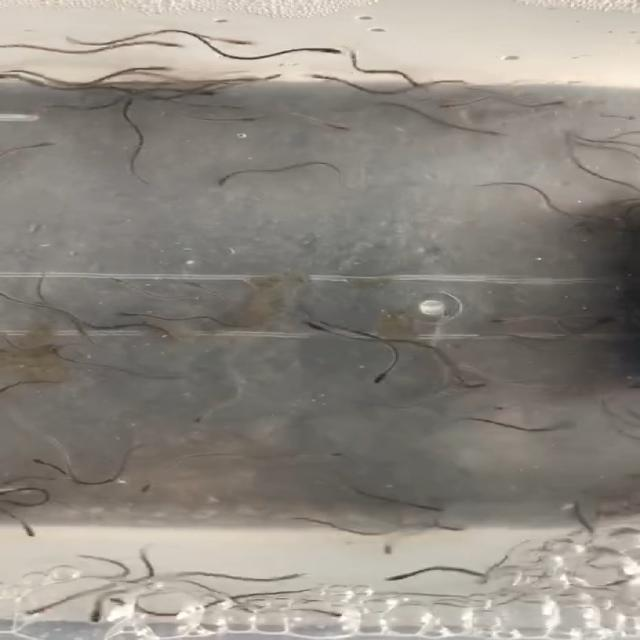active_glass_eel: (471, 118, 523, 144), (207, 169, 255, 196), (365, 362, 409, 388), (441, 378, 500, 397), (296, 39, 352, 59), (18, 452, 72, 471), (81, 606, 121, 630), (232, 104, 267, 131), (410, 500, 460, 518), (375, 540, 415, 562), (183, 407, 220, 429), (322, 117, 369, 134), (560, 497, 601, 516), (184, 83, 227, 101), (473, 312, 518, 329), (25, 140, 67, 157), (144, 62, 183, 80), (318, 606, 359, 623), (15, 605, 61, 620), (595, 310, 623, 334), (130, 482, 167, 500), (274, 567, 311, 585), (10, 527, 54, 542), (169, 278, 215, 292), (374, 571, 414, 587), (248, 71, 292, 85), (543, 92, 571, 113), (317, 449, 359, 463), (150, 42, 192, 54), (112, 94, 142, 110), (38, 346, 78, 358), (440, 523, 479, 535), (236, 36, 266, 51), (0, 70, 22, 90), (100, 274, 136, 286), (306, 70, 334, 85), (109, 309, 139, 322)
